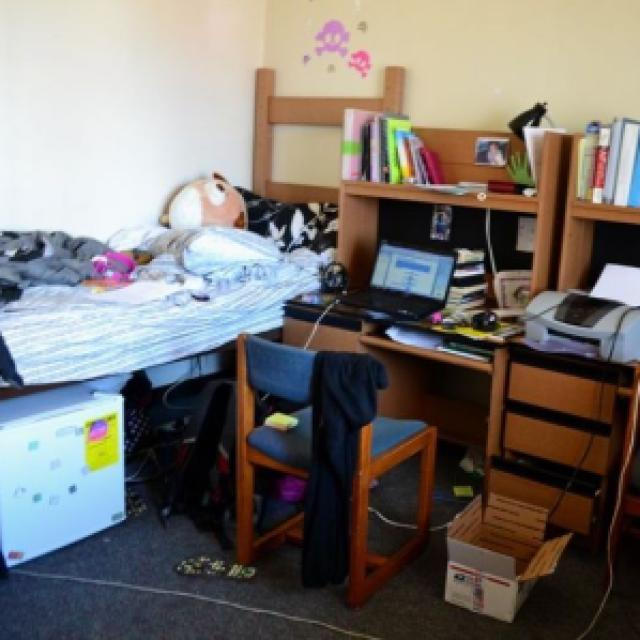mess: (23, 207, 328, 360)
